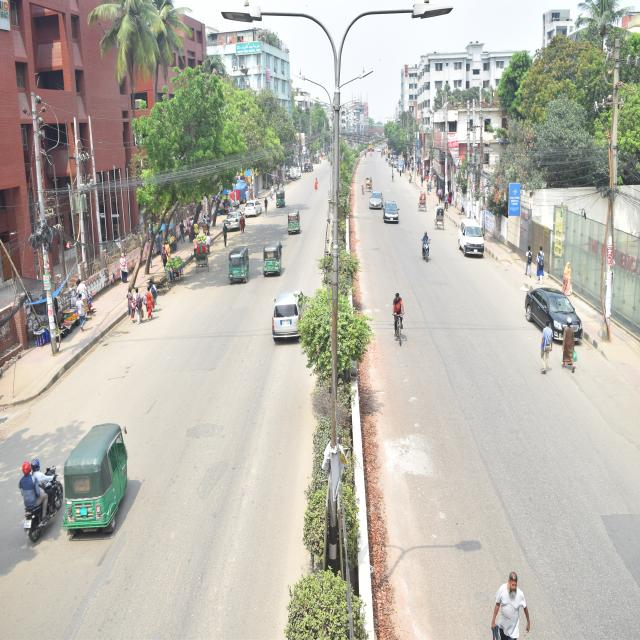car: (514, 264, 584, 374), (266, 276, 321, 369), (454, 202, 498, 288), (236, 189, 274, 221), (217, 204, 248, 238), (358, 184, 384, 222), (380, 198, 404, 232)
motorbike: (8, 432, 78, 543), (418, 220, 444, 290)
